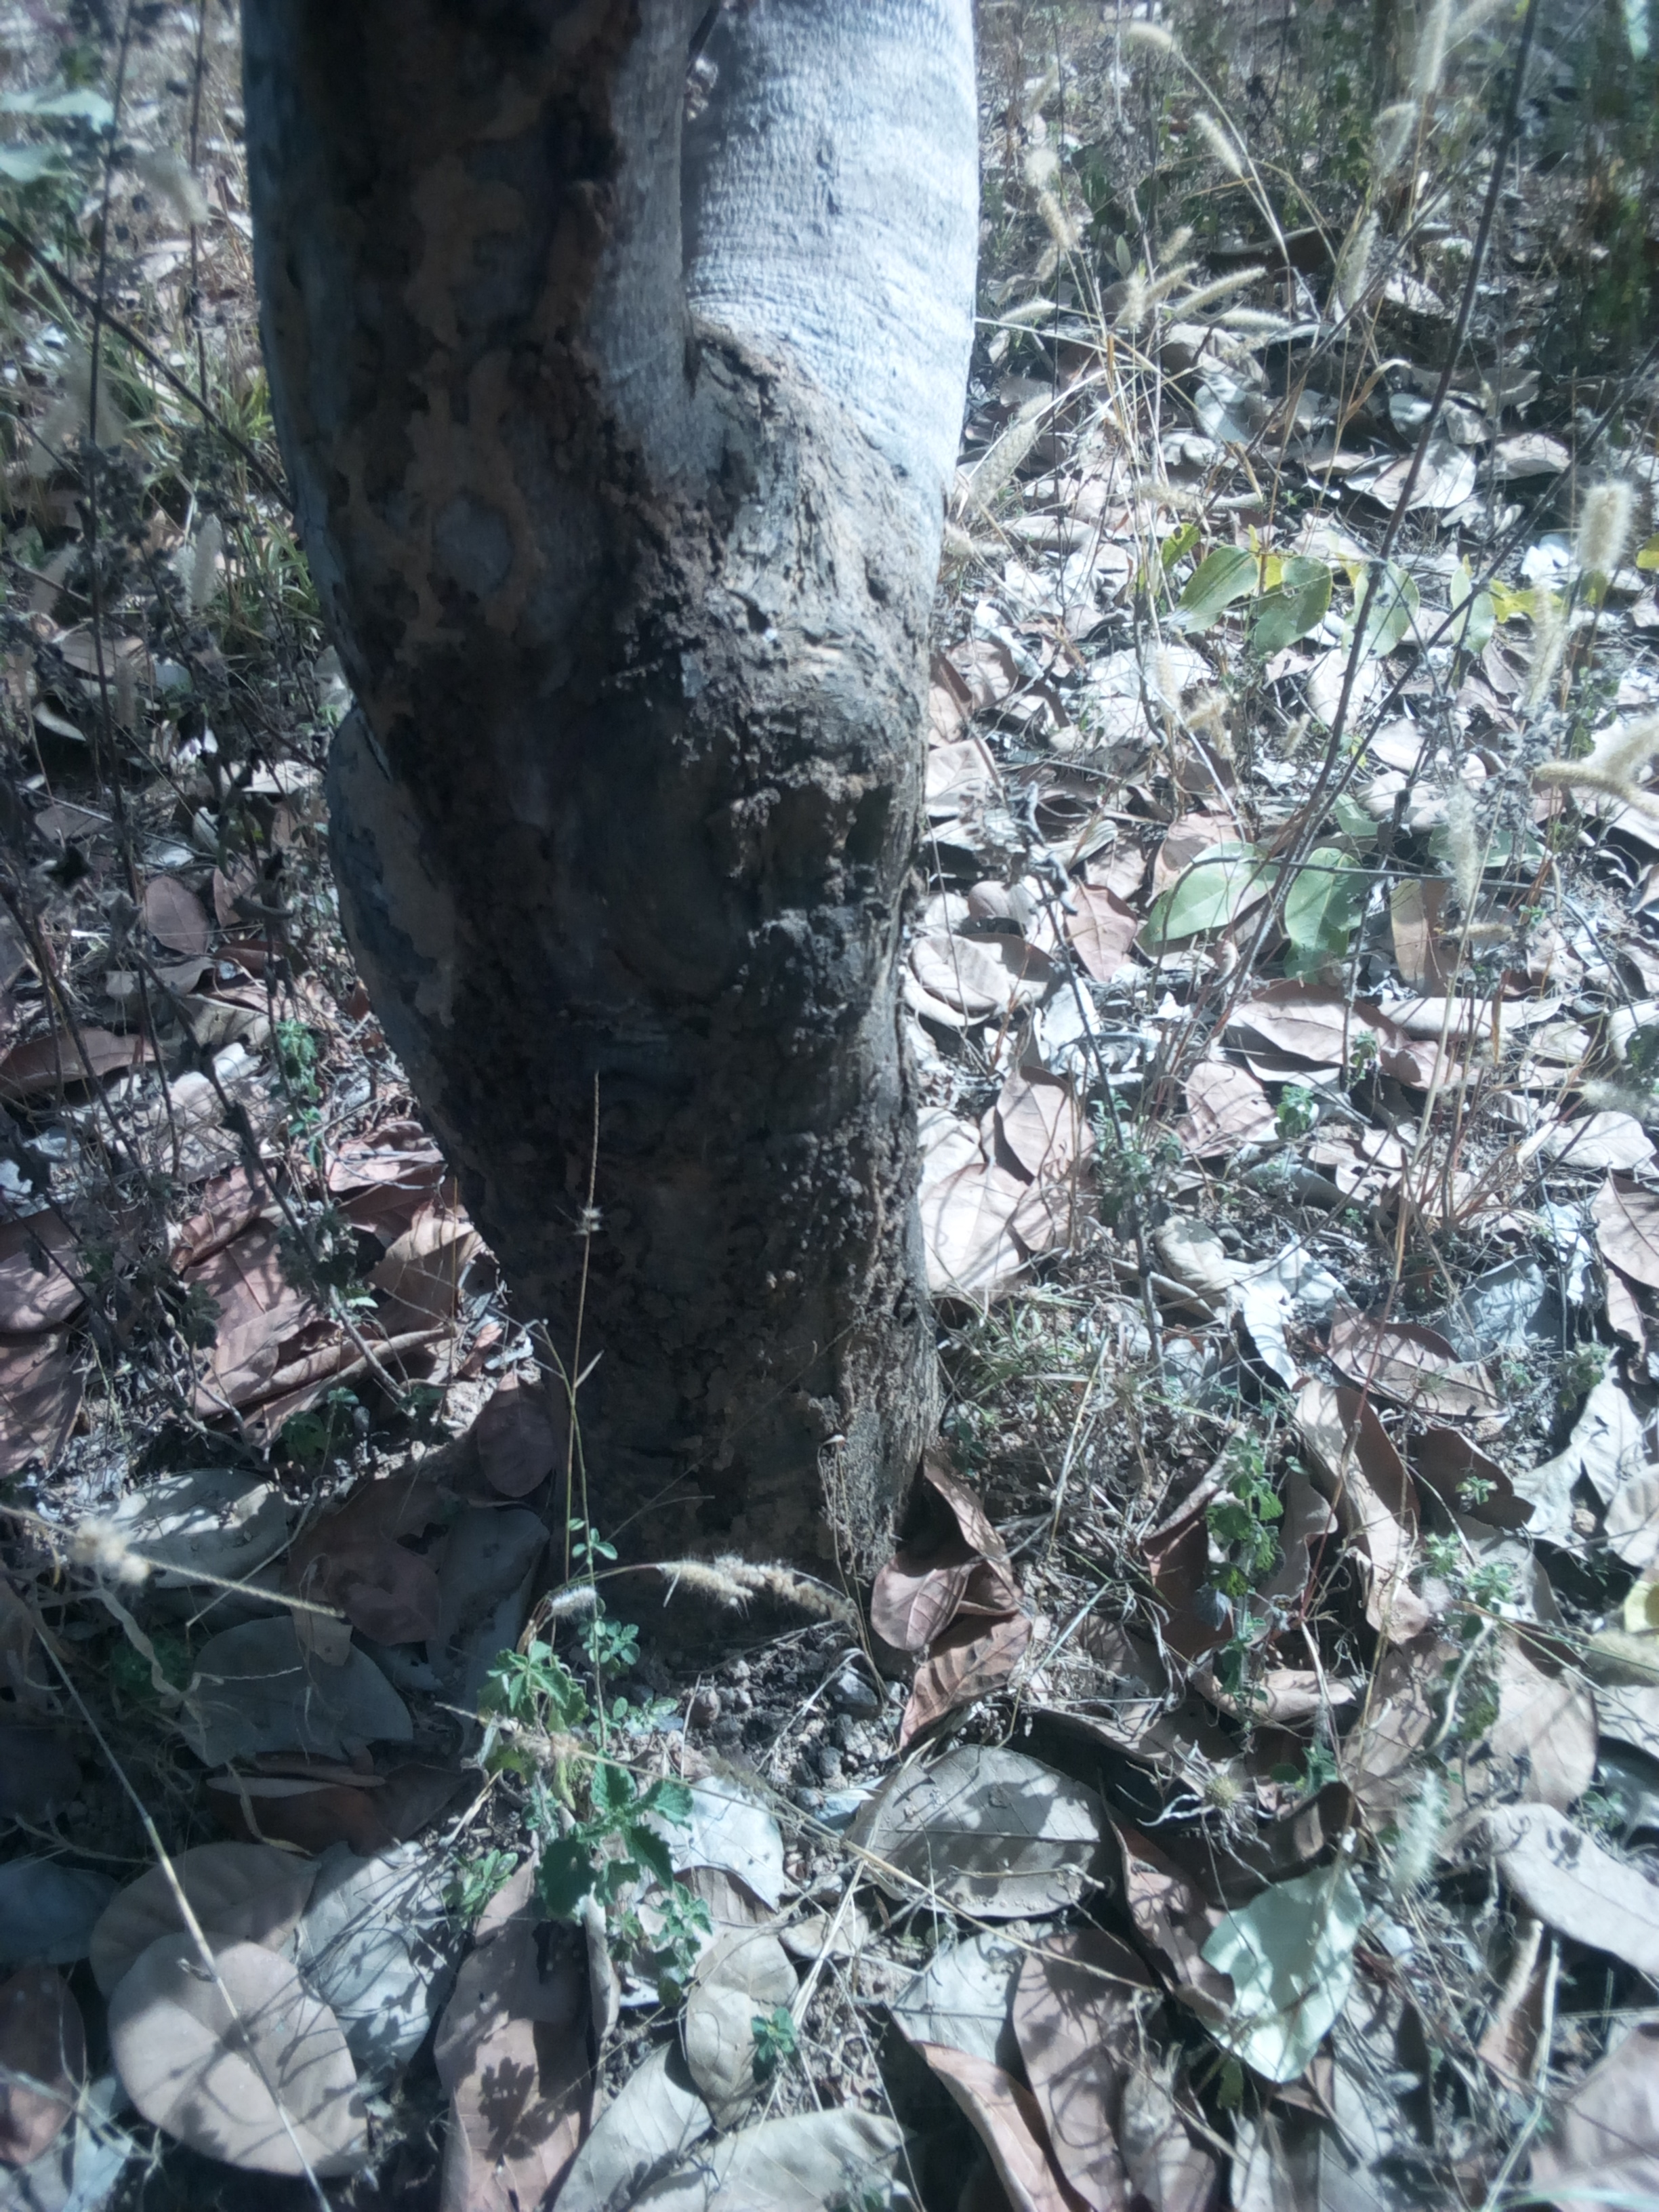Termites: (484, 726, 927, 1479), (305, 28, 657, 693)
